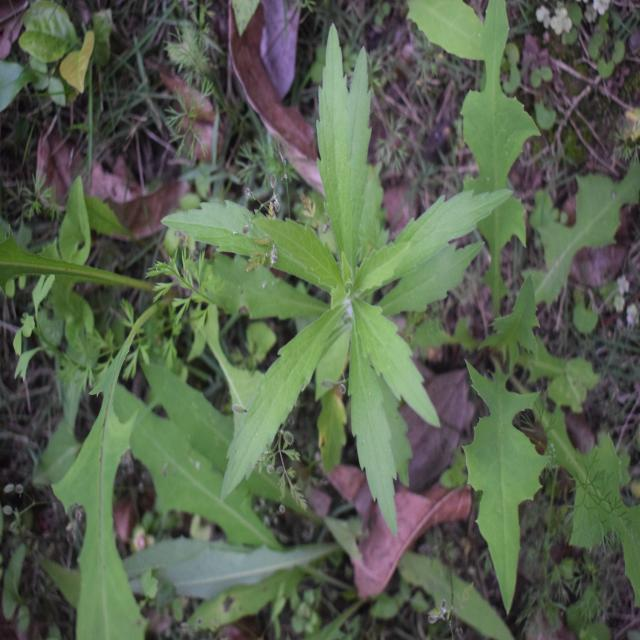horseweed: (208, 66, 465, 486)
